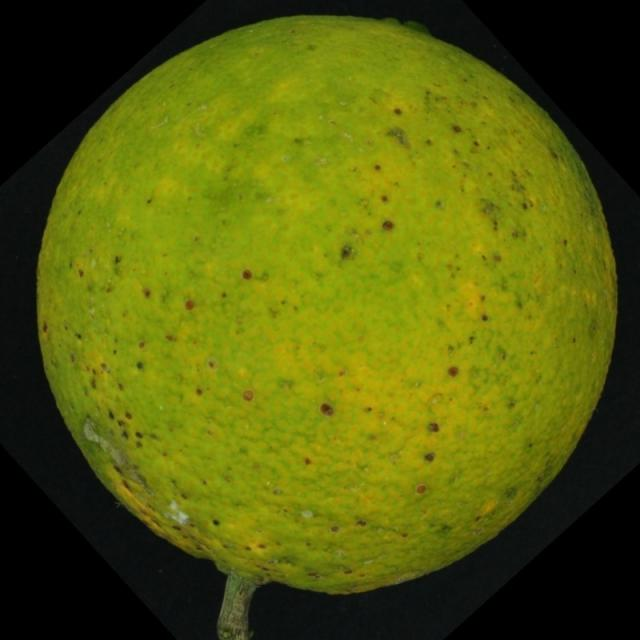grenning: (20, 14, 634, 640)
